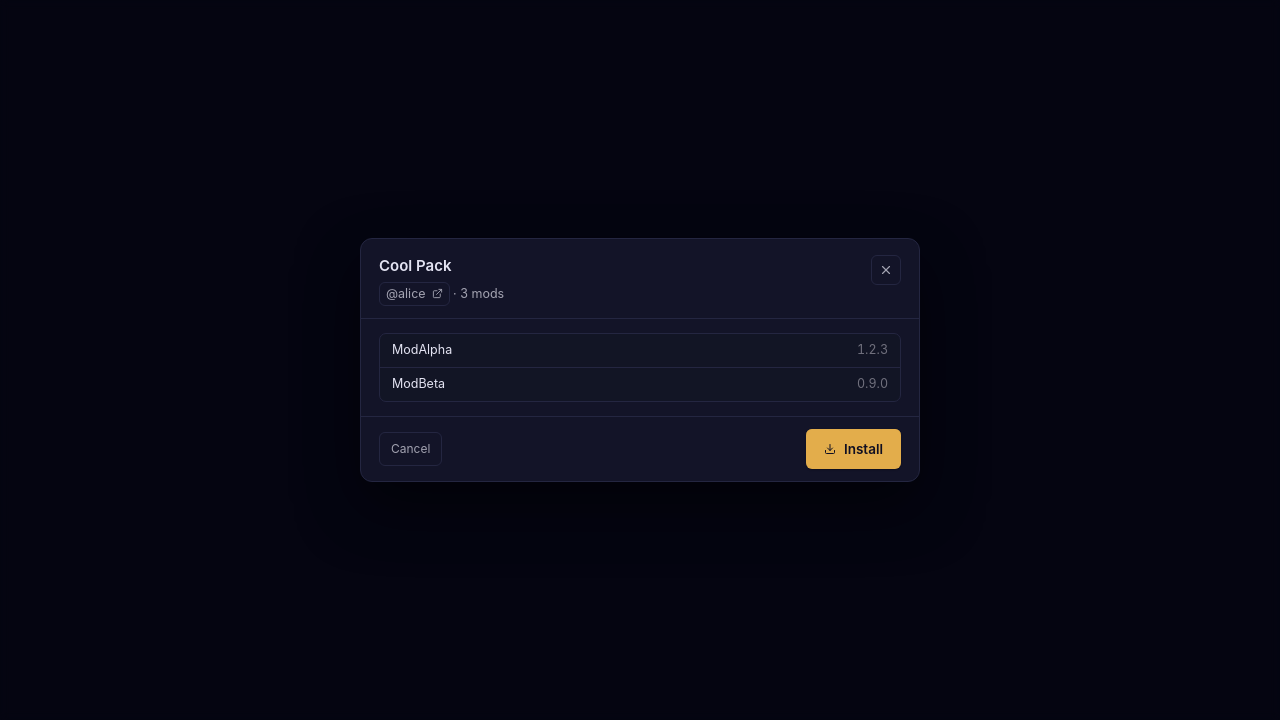
Test case: <BrowseModpackDetail> › Install failure surfaces an error toast and does NOT close the modal
Check: the text "ModAlpha" is shown, box [392,341,452,360]
Step 1. Click the button "Install" → coordinates (853, 449), box [806,429,901,469]
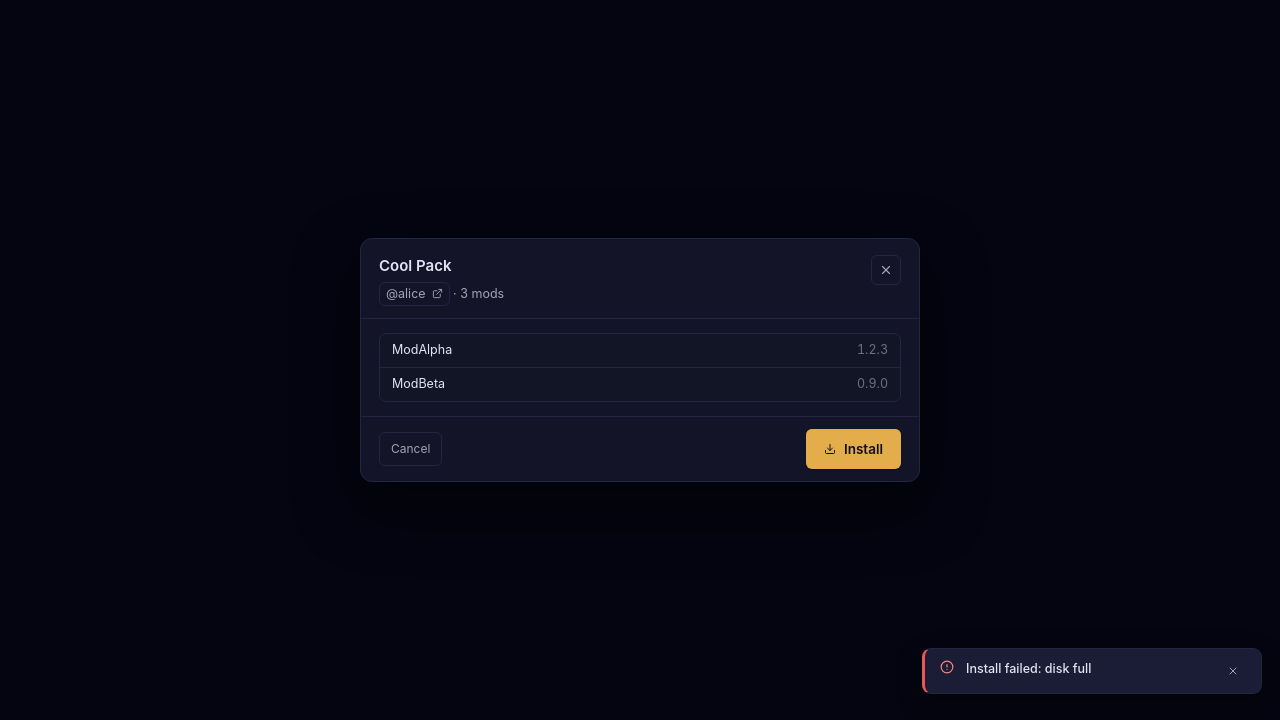
Check: the text "Install failed: disk full" is shown, box [966,661,1091,676]
